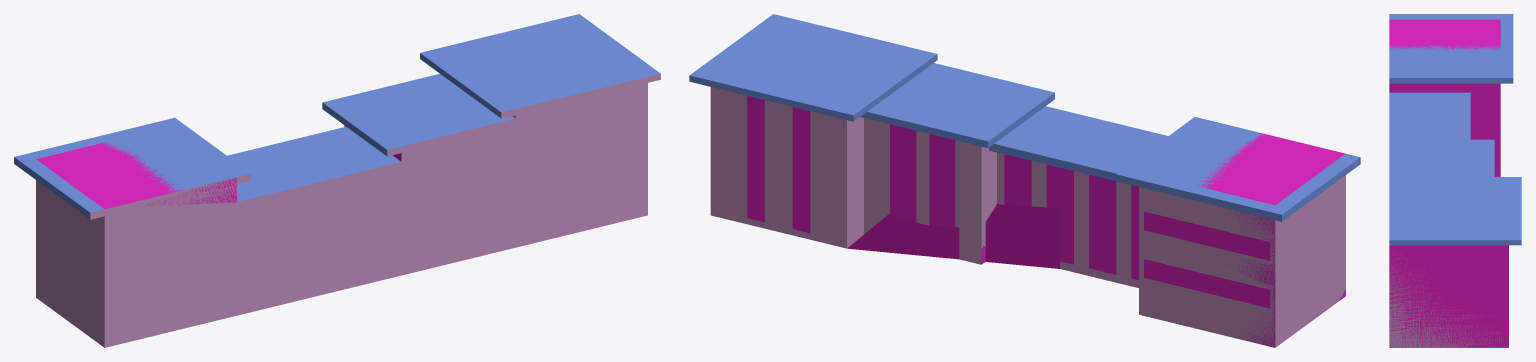
Rendered from building20.fbx.
3 renders of one model, left to right at view 1: azimuth 30°, elevation 25°; view 2: azimuth 150°, elevation 25°; view 3: azimuth 270°, elevation 25°, orthographic. The views are drawn at different scales.
Visible parts, largest first — view 1: building20_MESH, building20_COL; view 2: building20_MESH, building20_COL; view 3: building20_MESH, building20_COL.
Boxes of the visible parts, bbox=[...] form: building20_MESH: bbox=[14, 14, 660, 347]; building20_COL: bbox=[36, 142, 400, 346]; building20_MESH: bbox=[689, 14, 1360, 347]; building20_COL: bbox=[747, 96, 1345, 347]; building20_MESH: bbox=[1389, 14, 1521, 347]; building20_COL: bbox=[1389, 19, 1508, 347].
Bounding box in the file's own units: 2498 × 619 × 580.
